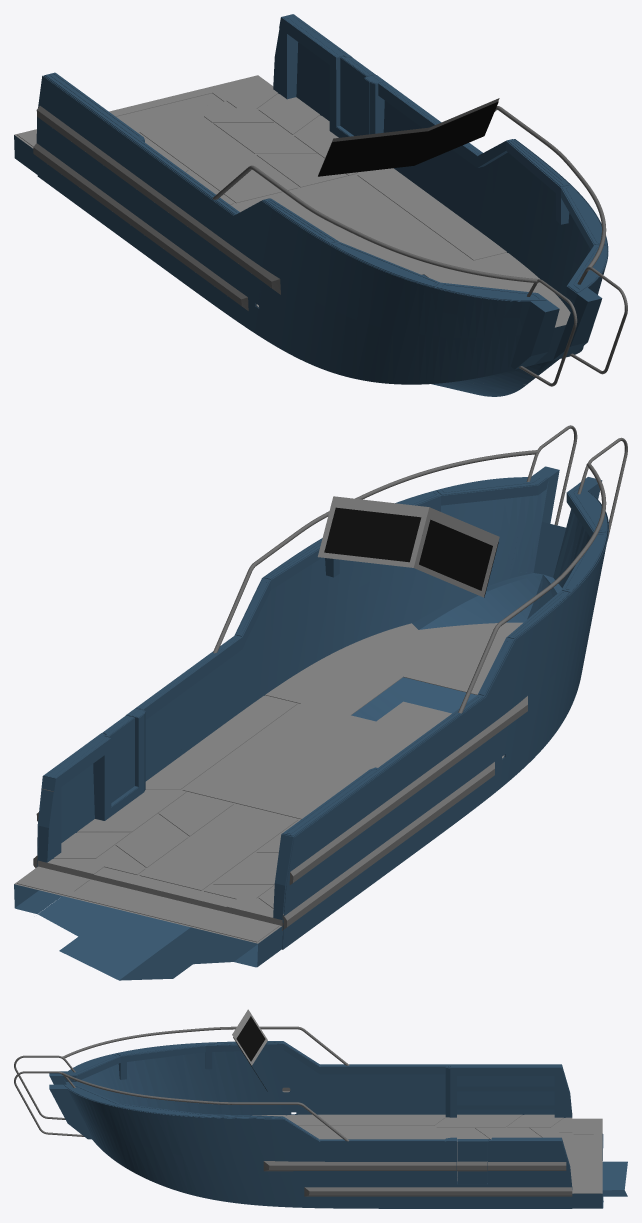
3 views of the same model, one above another, from view 1: azimuth 30°, elevation 25°; view 2: azimuth 150°, elevation 25°; view 3: azimuth 270°, elevation 25° (orthographic). The views are drawn at different scales.
Parts seen in each view (by area): view 1: imagetostl_mesh196, imagetostl_mesh194, imagetostl_mesh7, imagetostl_mesh19, imagetostl_mesh78, imagetostl_mesh41, imagetostl_mesh13, imagetostl_mesh76, imagetostl_mesh11, imagetostl_mesh6, imagetostl_mesh31, imagetostl_mesh1 (+32 smaller); view 2: imagetostl_mesh194, imagetostl_mesh196, imagetostl_mesh7, imagetostl_mesh6, imagetostl_mesh19, imagetostl_mesh1, imagetostl_mesh4, imagetostl_mesh78, imagetostl_mesh41, imagetostl_mesh13, imagetostl_mesh11, imagetostl_mesh5 (+25 smaller); view 3: imagetostl_mesh195, imagetostl_mesh193, imagetostl_mesh185, imagetostl_mesh0, imagetostl_mesh18, imagetostl_mesh7, imagetostl_mesh6, imagetostl_mesh4, imagetostl_mesh5, imagetostl_mesh75, imagetostl_mesh153, imagetostl_mesh17 (+30 smaller).
Boxes of the visible parts, left/top/right/bottom form: imagetostl_mesh196: left=36, top=75, right=545, bottom=384; imagetostl_mesh194: left=296, top=42, right=605, bottom=312; imagetostl_mesh7: left=231, top=175, right=570, bottom=384; imagetostl_mesh19: left=357, top=168, right=506, bottom=260; imagetostl_mesh78: left=36, top=106, right=279, bottom=288; imagetostl_mesh41: left=318, top=131, right=428, bottom=176; imagetostl_mesh13: left=139, top=124, right=267, bottom=203; imagetostl_mesh76: left=33, top=143, right=247, bottom=305; imagetostl_mesh11: left=171, top=116, right=298, bottom=195; imagetostl_mesh6: left=14, top=135, right=559, bottom=396; imagetostl_mesh31: left=128, top=93, right=507, bottom=261; imagetostl_mesh1: left=414, top=101, right=498, bottom=165; imagetostl_mesh194: left=61, top=479, right=548, bottom=842; imagetostl_mesh196: left=282, top=491, right=608, bottom=949; imagetostl_mesh7: left=182, top=622, right=522, bottom=819; imagetostl_mesh6: left=14, top=573, right=561, bottom=980; imagetostl_mesh19: left=145, top=696, right=297, bottom=789; imagetostl_mesh1: left=324, top=507, right=421, bottom=562; imagetostl_mesh4: left=17, top=867, right=278, bottom=942; imagetostl_mesh78: left=290, top=696, right=527, bottom=882; imagetostl_mesh41: left=419, top=519, right=498, bottom=597; imagetostl_mesh13: left=171, top=812, right=298, bottom=890; imagetostl_mesh11: left=139, top=804, right=266, bottom=883; imagetostl_mesh5: left=14, top=866, right=281, bottom=943; imagetostl_mesh195: left=68, top=1089, right=572, bottom=1208; imagetostl_mesh193: left=64, top=1050, right=554, bottom=1115; imagetostl_mesh185: left=305, top=1187, right=572, bottom=1196; imagetostl_mesh0: left=264, top=1161, right=456, bottom=1171; imagetostl_mesh18: left=287, top=1114, right=445, bottom=1125; imagetostl_mesh7: left=252, top=1115, right=434, bottom=1139; imagetostl_mesh6: left=572, top=1134, right=627, bottom=1208; imagetostl_mesh4: left=573, top=1118, right=601, bottom=1193; imagetostl_mesh5: left=572, top=1118, right=602, bottom=1193; imagetostl_mesh75: left=457, top=1141, right=487, bottom=1184; imagetostl_mesh153: left=320, top=1067, right=445, bottom=1074; imagetostl_mesh17: left=436, top=1114, right=522, bottom=1127.
Size of the model in its own units: 958 by 878 by 3142.
